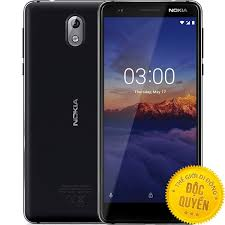nokia: (93, 1, 207, 225), (19, 1, 102, 224)
